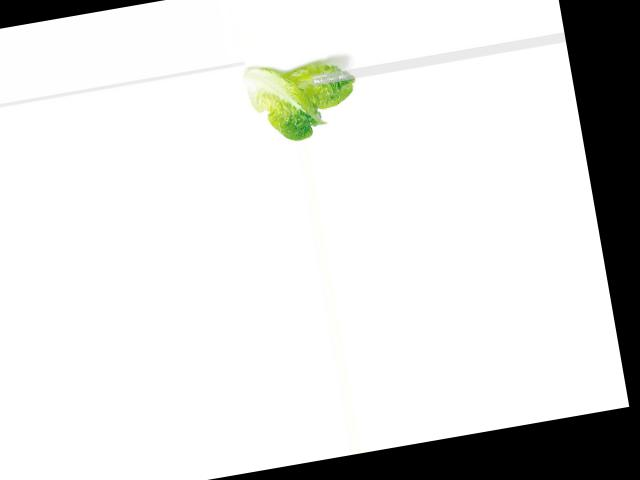lettuce: (239, 54, 366, 149)
